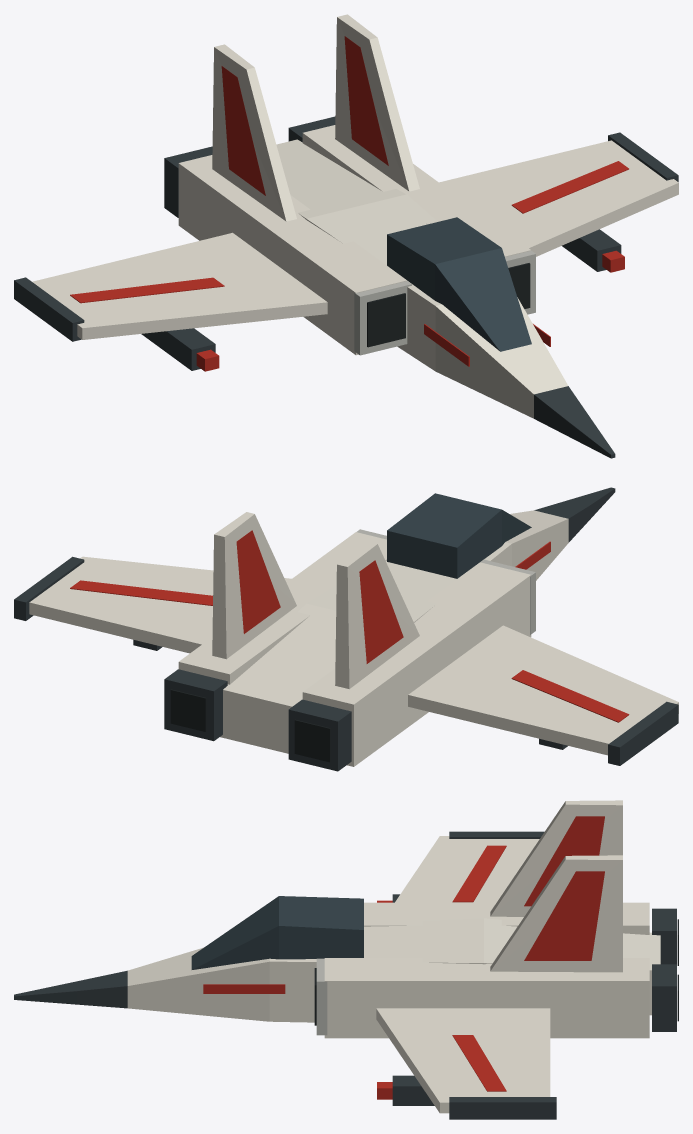
The picture shows the model from 3 angles, top to bottom: view 1: azimuth 30°, elevation 25°; view 2: azimuth 150°, elevation 25°; view 3: azimuth 270°, elevation 25°; orthographic projection. The views are drawn at different scales.
Visible parts, largest first — view 1: jet-a-fleet-armor, jet-a-fleet-glass, jet-a-fleet-machine, jet-a-fleet-red, jet-a-fleet-rubber, jet-a-fleet-edge; view 2: jet-a-fleet-armor, jet-a-fleet-machine, jet-a-fleet-red, jet-a-fleet-glass, jet-a-fleet-rubber, jet-a-fleet-edge; view 3: jet-a-fleet-armor, jet-a-fleet-red, jet-a-fleet-machine, jet-a-fleet-glass, jet-a-fleet-edge.
Boxes of the visible parts, <box> form: jet-a-fleet-armor: <box>32,14,678,418</box>; jet-a-fleet-glass: <box>387,217,531,351</box>; jet-a-fleet-machine: <box>14,116,678,458</box>; jet-a-fleet-red: <box>70,36,628,371</box>; jet-a-fleet-rubber: <box>367,263,530,347</box>; jet-a-fleet-edge: <box>354,250,535,355</box>; jet-a-fleet-armor: <box>29,510,678,766</box>; jet-a-fleet-machine: <box>14,487,678,771</box>; jet-a-fleet-red: <box>70,530,629,722</box>; jet-a-fleet-glass: <box>387,493,531,578</box>; jet-a-fleet-rubber: <box>170,689,330,762</box>; jet-a-fleet-edge: <box>357,529,535,634</box>; jet-a-fleet-armor: <box>127,800,660,1113</box>; jet-a-fleet-red: <box>203,816,604,1099</box>; jet-a-fleet-machine: <box>14,831,676,1119</box>; jet-a-fleet-glass: <box>191,896,363,969</box>; jet-a-fleet-edge: <box>316,958,327,1035</box>.
Size of the model in its own units: 59.87 by 18.5 by 62.11.
